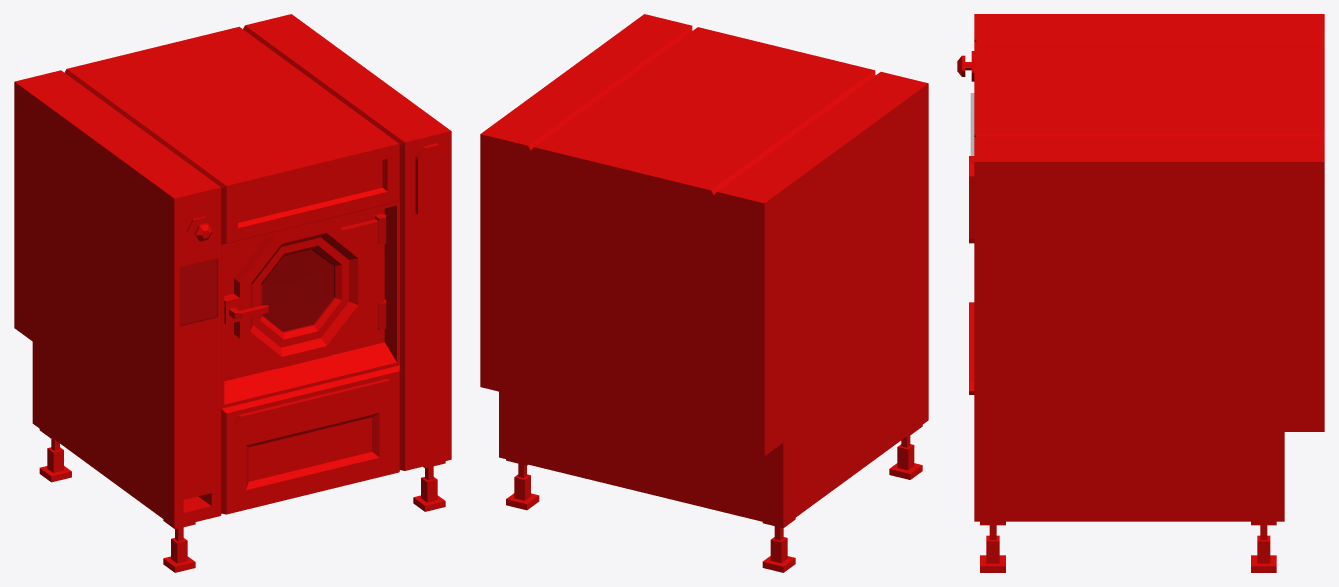
File: SM_washing_machine.fbx
The picture shows the model from 3 angles, left to right: view 1: azimuth 30°, elevation 25°; view 2: azimuth 150°, elevation 25°; view 3: azimuth 270°, elevation 25°; orthographic projection. The views are drawn at different scales.
Parts seen in each view (by area): view 1: washing_machine, Cube_2; view 2: washing_machine; view 3: washing_machine.
Part boxes in pixels (<box>): washing_machine: <box>14,14,451,572</box>; Cube_2: <box>224,214,386,368</box>; washing_machine: <box>480,14,928,572</box>; washing_machine: <box>957,14,1324,572</box>.
Size of the model in its own units: 150 by 195 by 157.
